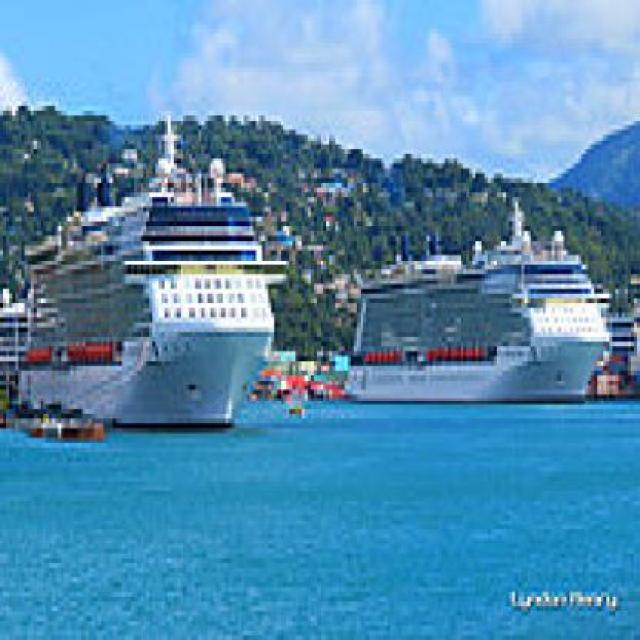cruise: (14, 87, 294, 444), (333, 194, 629, 420)
